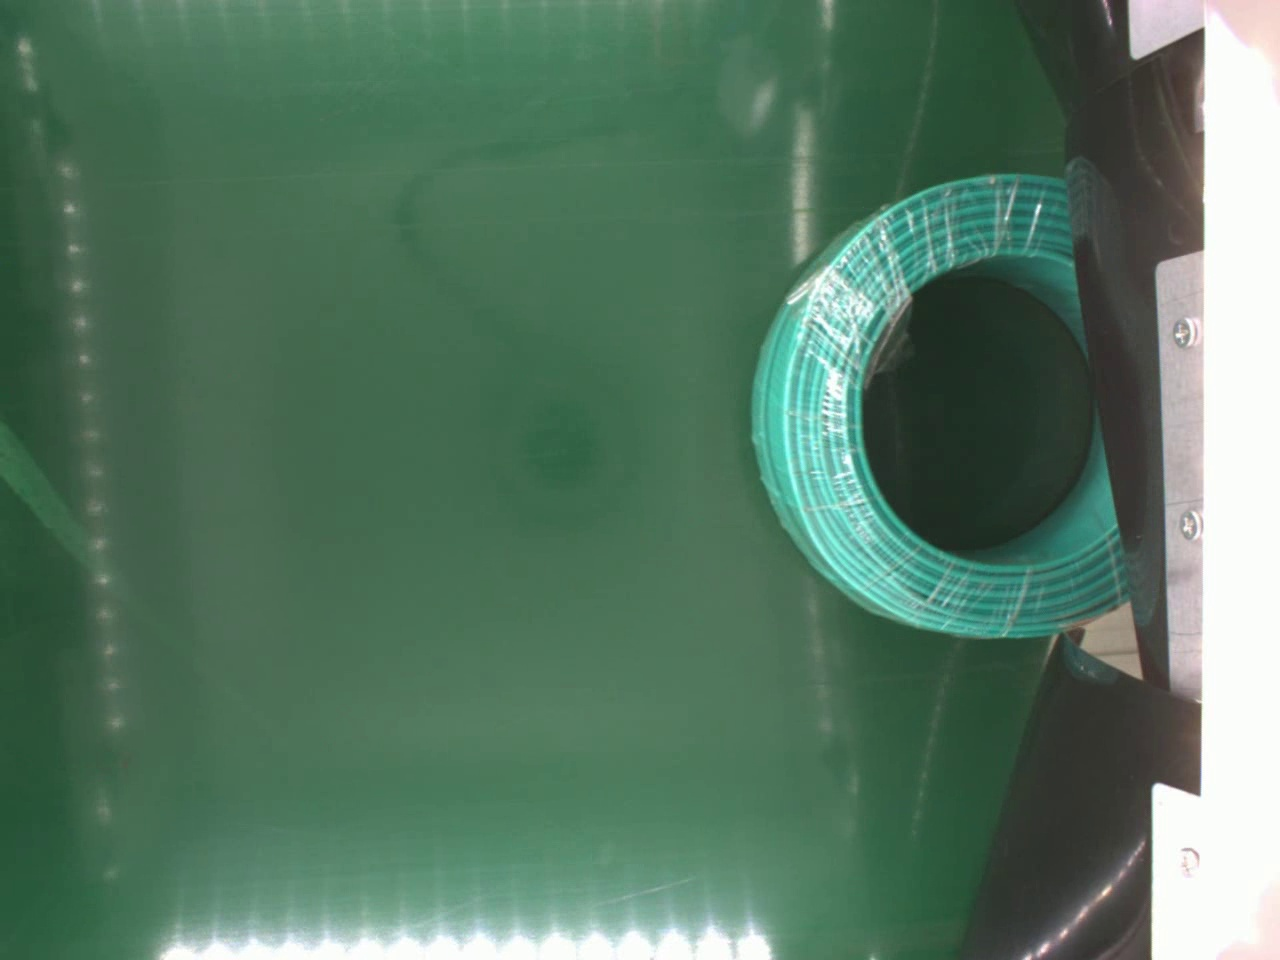green: (747, 174, 1130, 636)
